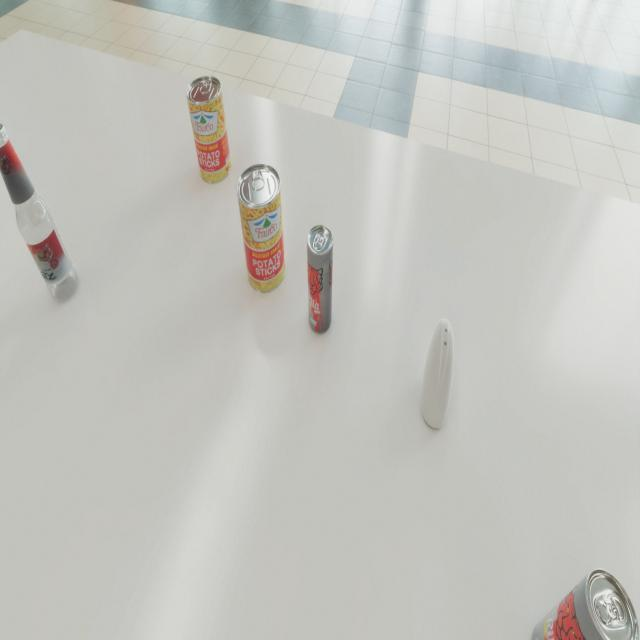Bottle: (0, 123, 79, 302)
Potato_sticks: (237, 163, 286, 293), (186, 76, 232, 183)
Rita_zero_sugar: (307, 225, 333, 334)
Salt: (421, 318, 454, 428)
